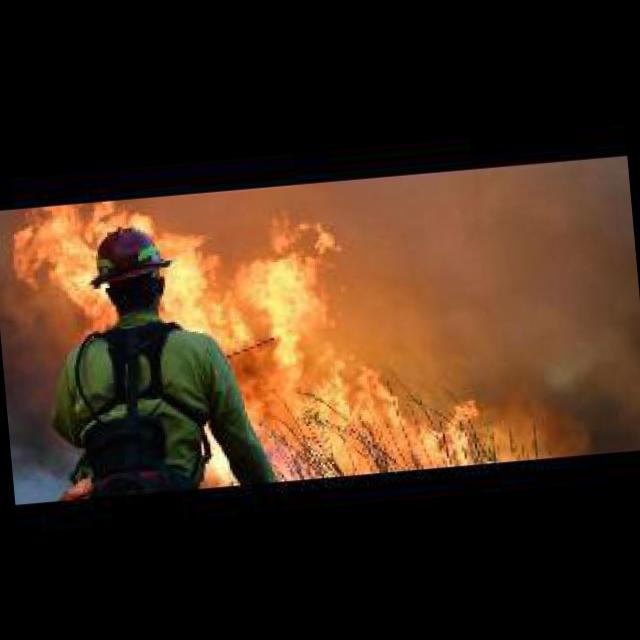fire: (5, 168, 515, 499)
